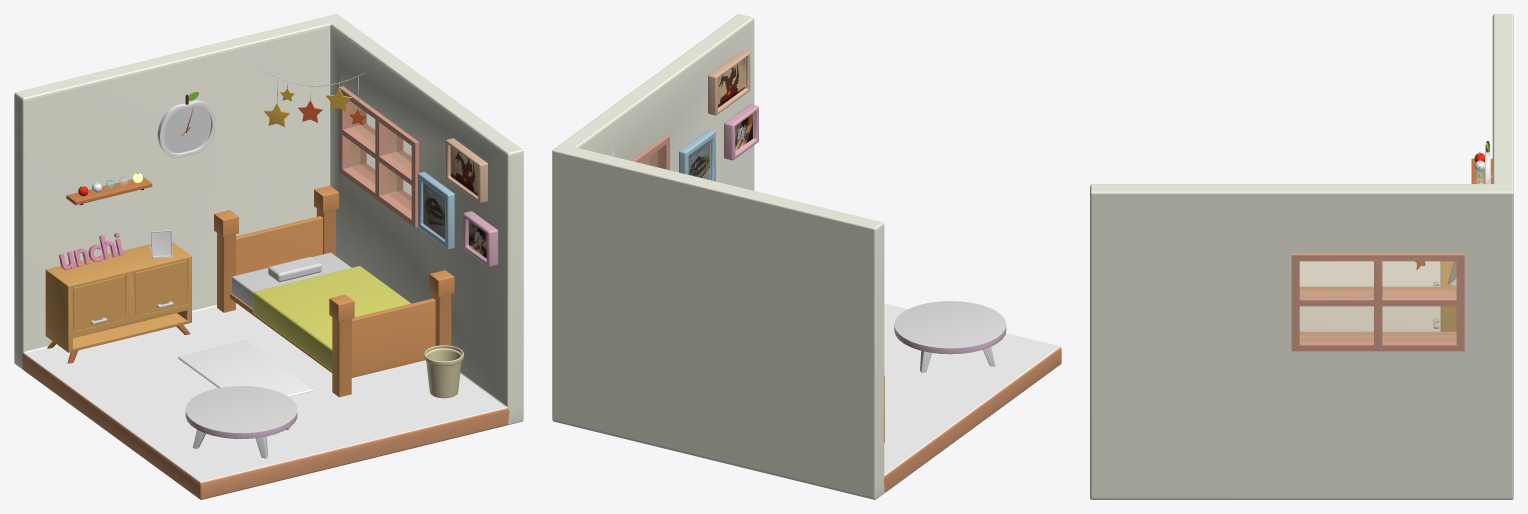
Rendered from room-yuki2.glb.
3 views of the same model, side by side, from view 1: azimuth 30°, elevation 25°; view 2: azimuth 150°, elevation 25°; view 3: azimuth 270°, elevation 25° (orthographic). The views are drawn at different scales.
Visible parts, largest first — view 1: room, room.001, ベッド本体, 本体, 掛け布団, ベッド柱, 窓枠, 天板.001, 扉, マット, 本体.001, ガラス (+9 smaller); view 2: room.001, room, 天板.001, 額縁2, 額縁3, 額縁１, 窓枠; view 3: room.001, ガラス, 窓枠, room, 本体.
Part boxes in pixels (bbox=[...]): room: bbox=[14, 26, 523, 499]; room.001: bbox=[14, 14, 523, 484]; ベッド本体: bbox=[230, 216, 435, 377]; 本体: bbox=[45, 242, 191, 352]; 掛け布団: bbox=[253, 266, 410, 370]; ベッド柱: bbox=[214, 185, 454, 397]; 窓枠: bbox=[339, 86, 419, 227]; 天板.001: bbox=[185, 386, 297, 438]; 扉: bbox=[73, 260, 186, 331]; マット: bbox=[178, 340, 313, 396]; 本体.001: bbox=[157, 100, 216, 158]; ガラス: bbox=[351, 102, 411, 210]; room.001: bbox=[552, 14, 1061, 498]; room: bbox=[552, 19, 1061, 499]; 天板.001: bbox=[894, 301, 1006, 354]; 額縁2: bbox=[708, 50, 750, 115]; 額縁3: bbox=[724, 104, 758, 160]; 額縁１: bbox=[679, 129, 715, 181]; 窓枠: bbox=[631, 135, 669, 170]; room.001: bbox=[1090, 14, 1513, 498]; ガラス: bbox=[1300, 261, 1456, 340]; 窓枠: bbox=[1291, 253, 1464, 351]; room: bbox=[1090, 187, 1513, 499]; 本体: bbox=[1440, 261, 1456, 331].
Size of what is drawn, in the model's own units: 2.03 by 1.61 by 2.
Materials: 51 (3 with a texture image).
